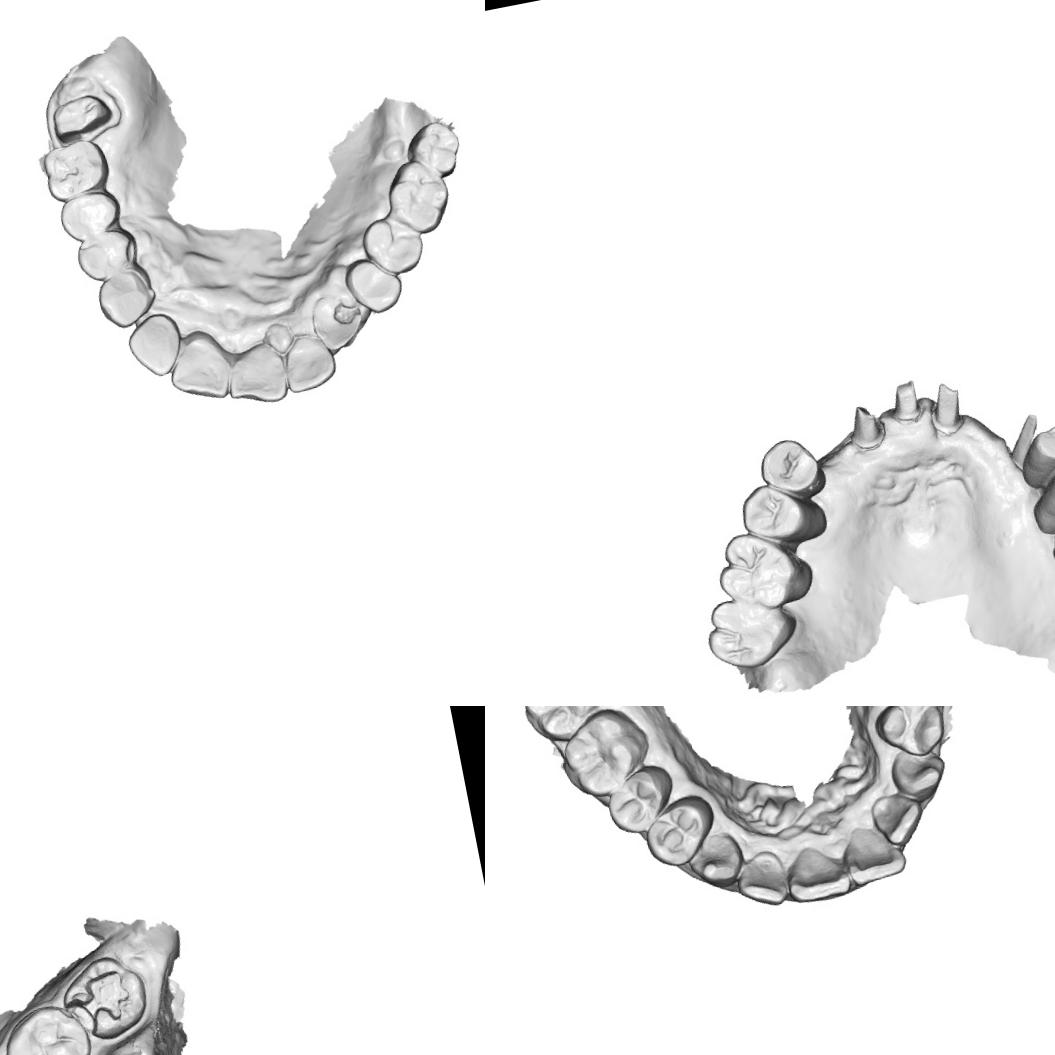canine: (91, 265, 161, 332), (886, 741, 952, 807), (306, 288, 369, 354), (684, 829, 748, 888)
crown: (45, 85, 124, 147), (1000, 409, 1050, 472), (924, 378, 968, 440), (844, 402, 886, 454), (885, 378, 924, 426)
incisor: (161, 324, 236, 407), (778, 834, 855, 907), (837, 814, 910, 886), (219, 338, 290, 412), (122, 309, 188, 381), (730, 844, 794, 914), (865, 788, 929, 852), (278, 328, 340, 394)
inlay: (59, 966, 136, 1038)
molar: (553, 706, 659, 808), (710, 520, 819, 618), (700, 586, 803, 676), (380, 154, 455, 238), (0, 997, 99, 1055), (38, 134, 113, 204), (509, 706, 611, 748), (402, 117, 466, 183)
premolar: (735, 472, 830, 553), (637, 790, 722, 873), (596, 760, 677, 838), (754, 432, 829, 504), (357, 210, 428, 281), (870, 706, 952, 765), (340, 250, 406, 318), (70, 224, 142, 284), (55, 186, 125, 246), (1011, 412, 1055, 491), (1022, 446, 1055, 537)
